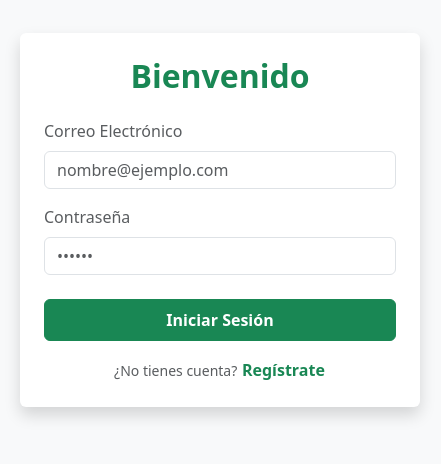
Test case: Pruebas del Componente Login › Debe mostrar error si el backend responde con fallo (Credenciales incorrectas)
The width and height of the screenshot is (441, 464).
Type "error@prueba.cl" into the field with placeholder "nombre@ejemplo.com" at point(220, 170), box [44, 151, 396, 189]
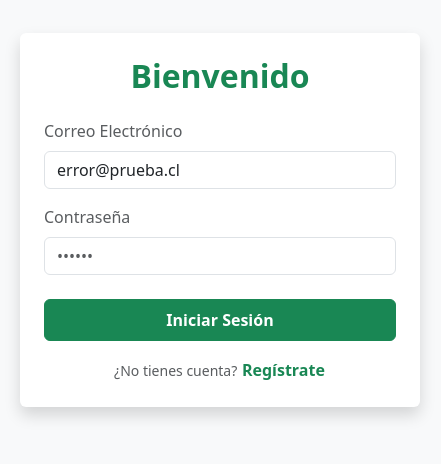
Type "malapass" into the password field with placeholder "••••••" at point(220, 256), box [44, 237, 396, 275]
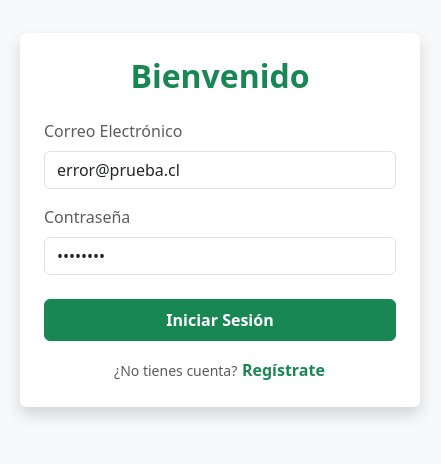
Click the button "Iniciar Sesión" at point(220, 320), box [44, 299, 396, 341]
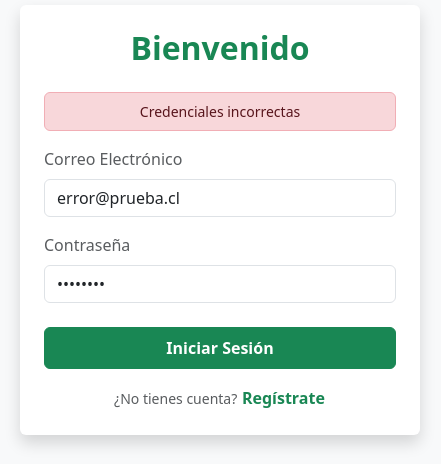
Now the text "Credenciales incorrectas" is shown, box [44, 92, 396, 131]
